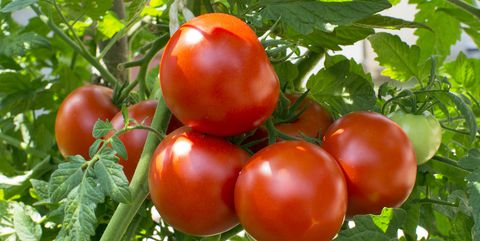stems: (112, 77, 138, 104)
tomato: (159, 13, 281, 135), (148, 124, 252, 238), (235, 140, 348, 241), (323, 110, 417, 215), (102, 98, 185, 189), (55, 85, 125, 160), (245, 93, 334, 148), (381, 109, 441, 165)
